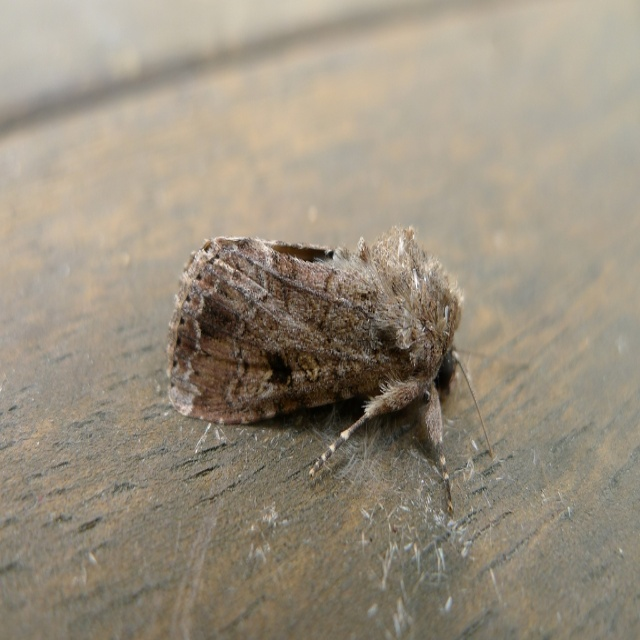Moths and butterflies: (167, 225, 495, 520)
